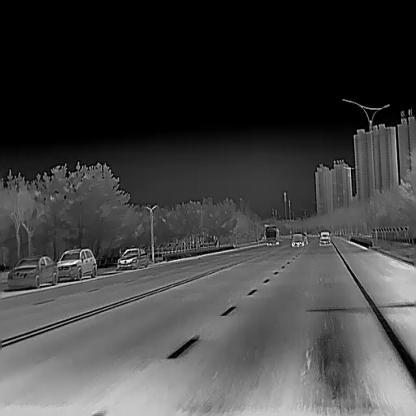car: (7, 253, 57, 287), (56, 246, 96, 281), (117, 246, 148, 269), (265, 225, 280, 245), (318, 230, 331, 244), (291, 232, 304, 246)
